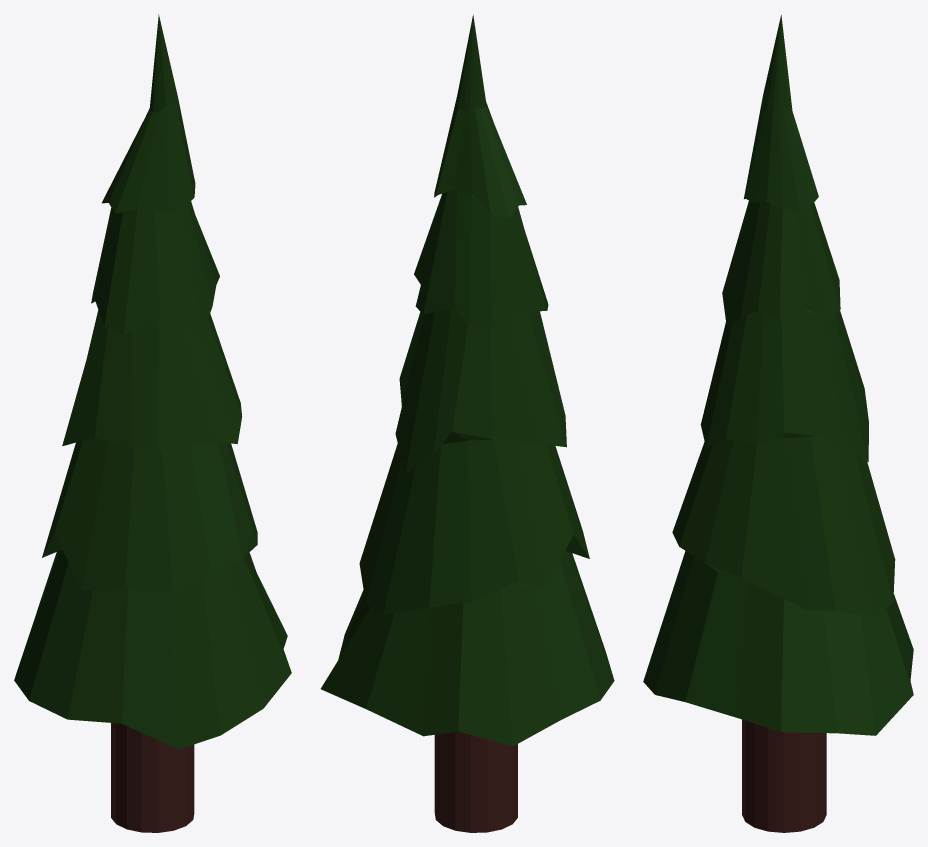
File: TanneAsym2.fbx
3 renders of one model, left to right at view 1: azimuth 30°, elevation 25°; view 2: azimuth 150°, elevation 25°; view 3: azimuth 270°, elevation 25°, orthographic.
Visible parts, largest first — view 1: TanneAsym2; view 2: TanneAsym2; view 3: TanneAsym2.
Boxes of the visible parts, box(x1,y1,x2,y2) form: TanneAsym2: box(14, 14, 291, 832); TanneAsym2: box(320, 14, 614, 832); TanneAsym2: box(643, 15, 913, 832).
Bounding box in the file's own units: 575 × 1711 × 522.
